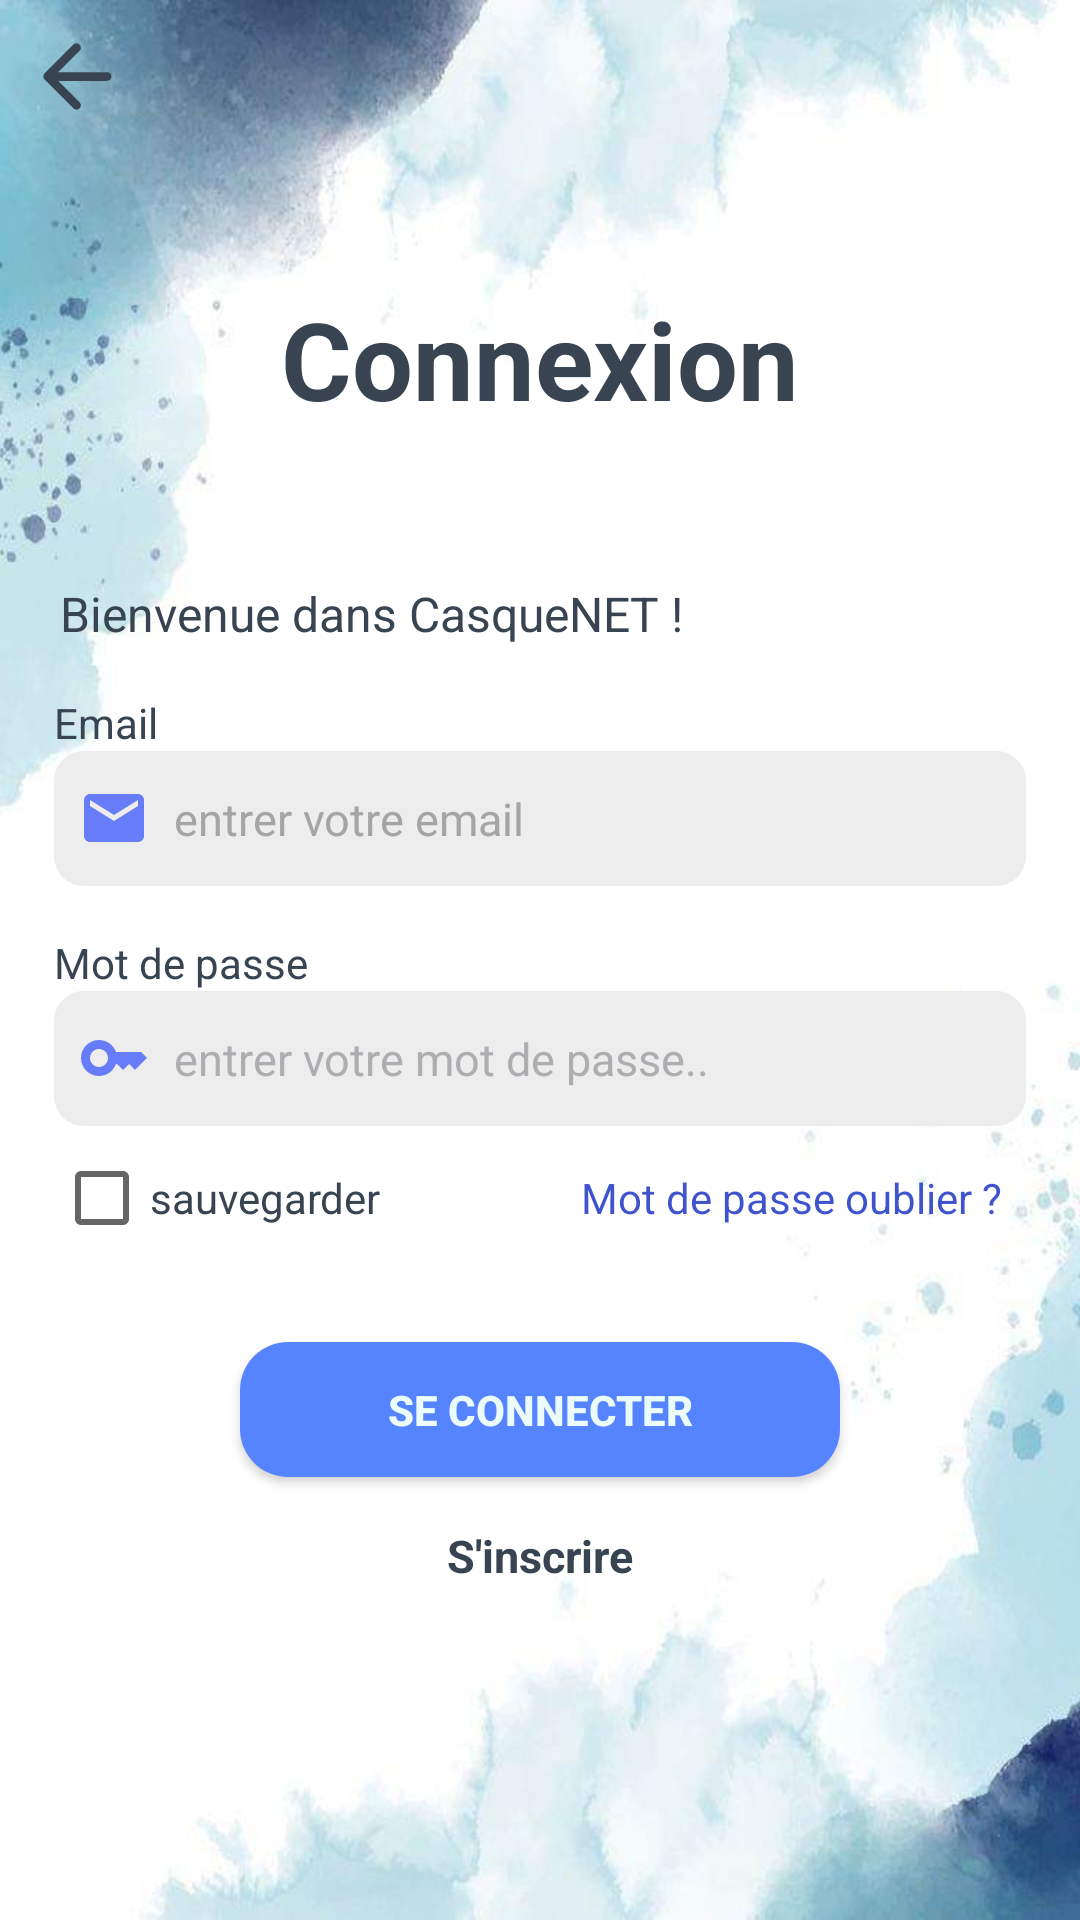

Icon click points for this 1080w x 1920h phone screenshot, format point (x, y):
back: point (76, 76)
